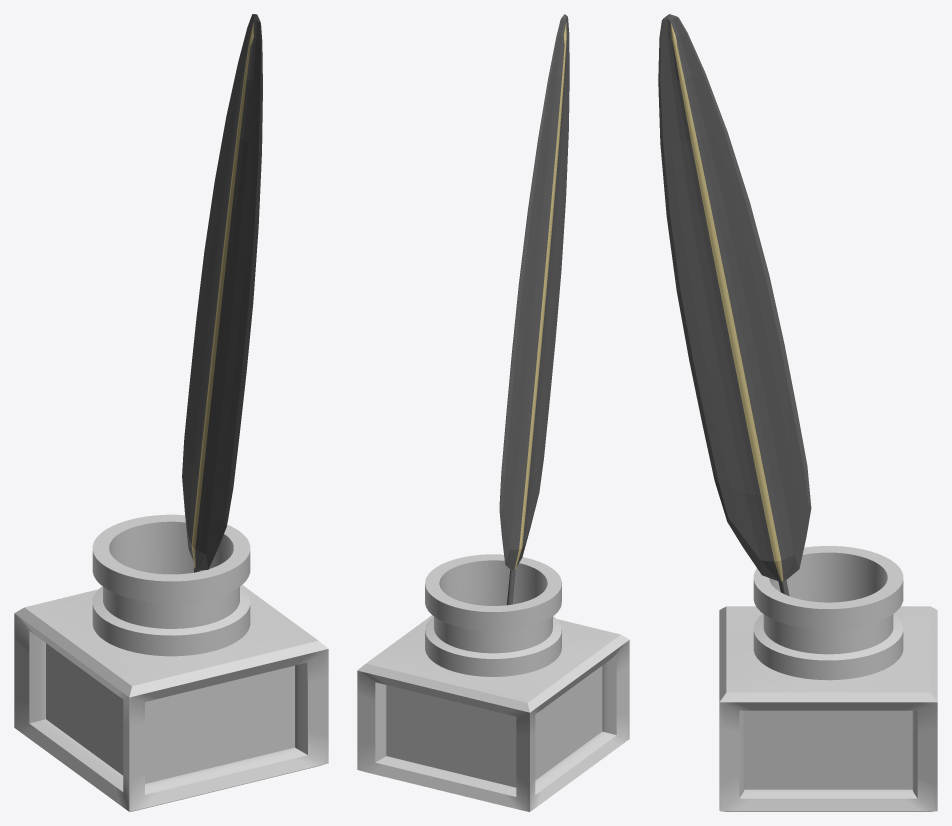
The model's file is soviet 2.fbx.
3 renders of one model, left to right at view 1: azimuth 30°, elevation 25°; view 2: azimuth 150°, elevation 25°; view 3: azimuth 270°, elevation 25°, orthographic. The views are drawn at different scales.
Visible parts, largest first — view 1: Ink Pad, Cube.052; view 2: Ink Pad, Cube.052; view 3: Ink Pad, Cube.052.
Part boxes in pixels (x1,y1,x2,y2): Ink Pad: [14, 514, 328, 811]; Cube.052: [182, 14, 262, 572]; Ink Pad: [357, 554, 629, 811]; Cube.052: [499, 14, 569, 605]; Ink Pad: [719, 546, 937, 811]; Cube.052: [658, 14, 811, 595].
Size of the model in its own units: 8.79 by 33.57 by 11.25.
